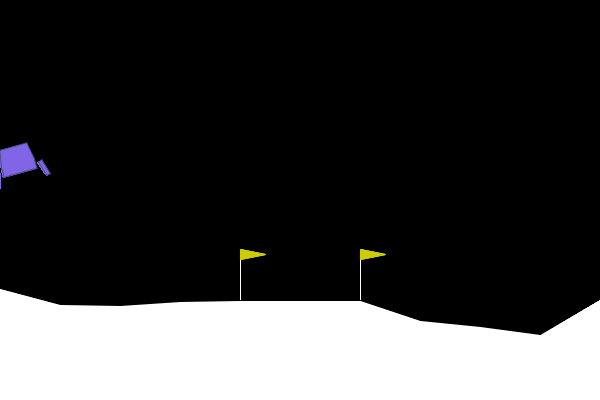lander: (0, 137, 52, 192)
